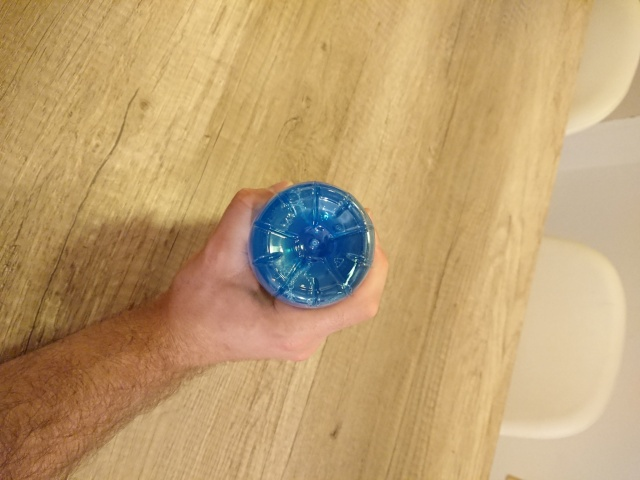Vindi Iso Sport Forest Strawberries 500mL: (245, 178, 377, 311)
